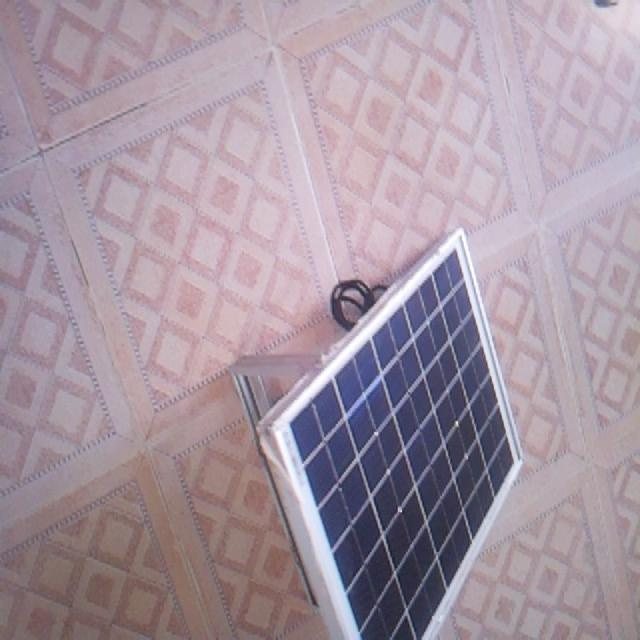Normal Solar Panel: (257, 228, 524, 639)
